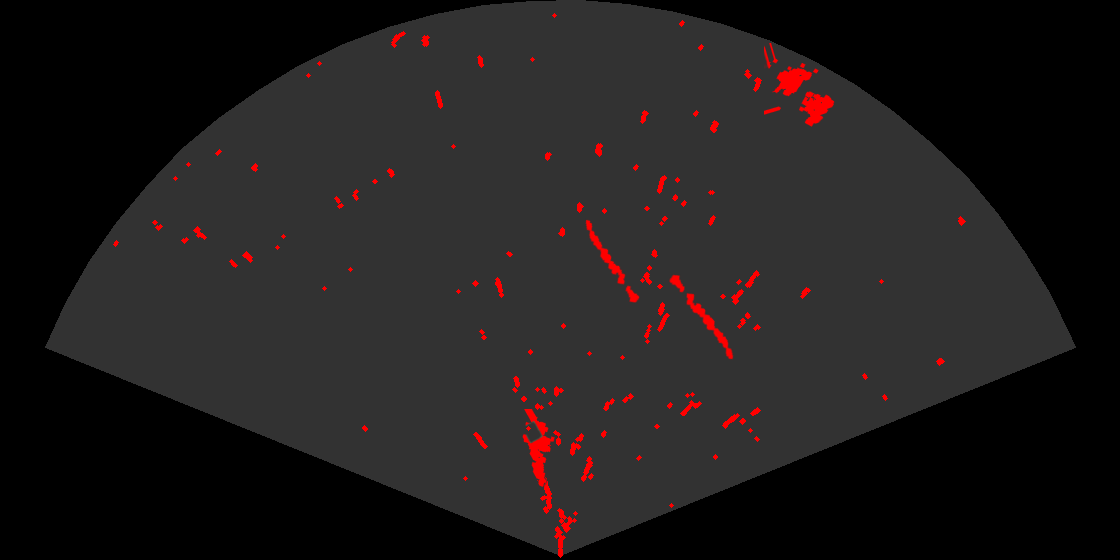cage: (764, 43, 836, 128)
chain: (668, 273, 735, 361), (584, 218, 641, 304)
frogman: (521, 409, 556, 489)
